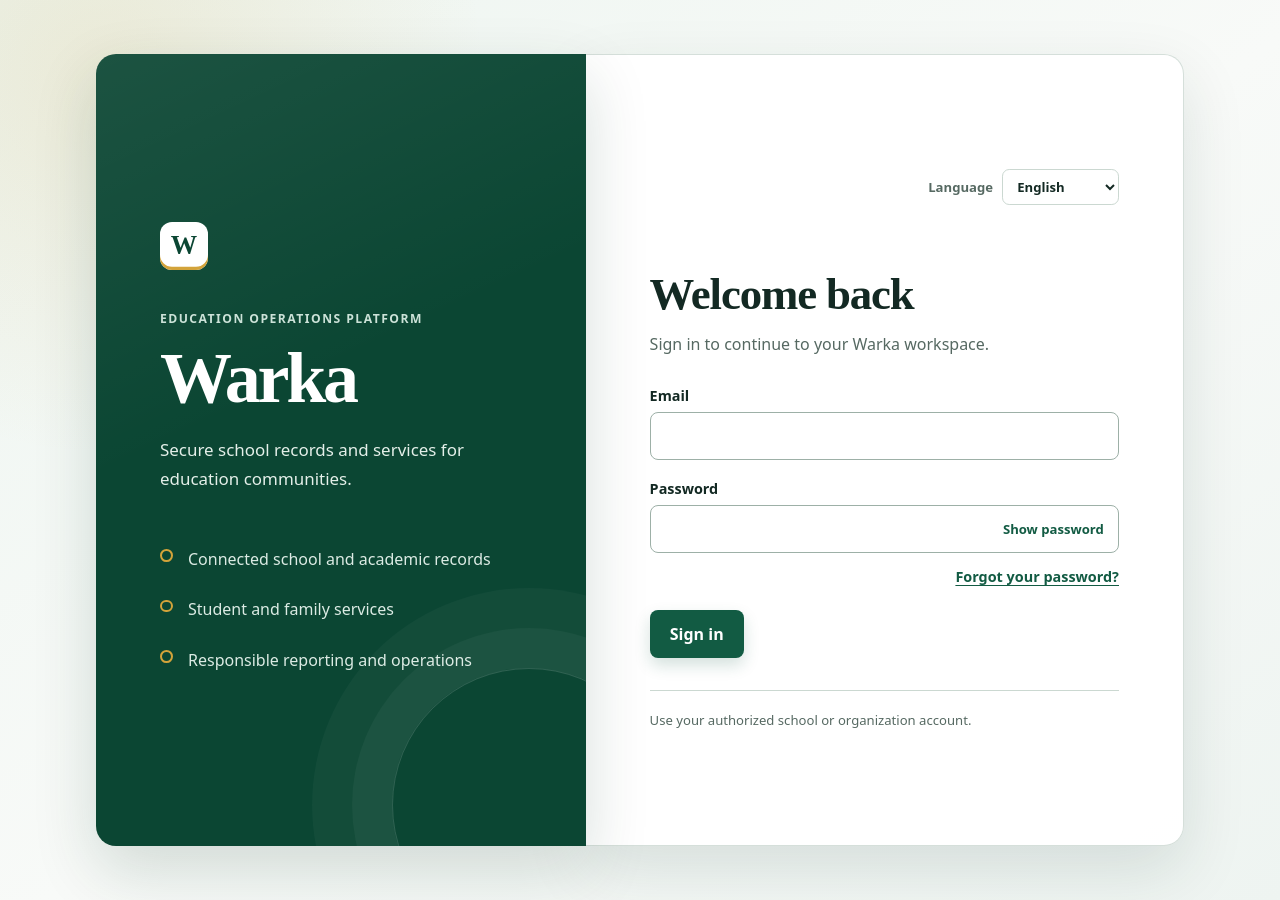
it: authenticated web shell › reports invalid credentials without exposing account details
expect the button "Sign in" is shown: met, box top-left (650, 610), bottom-right (744, 658)
Step 1. Type " OWNER@example.com " into the field labelled "Email" → (884, 436), box top-left (650, 412), bottom-right (1119, 460)
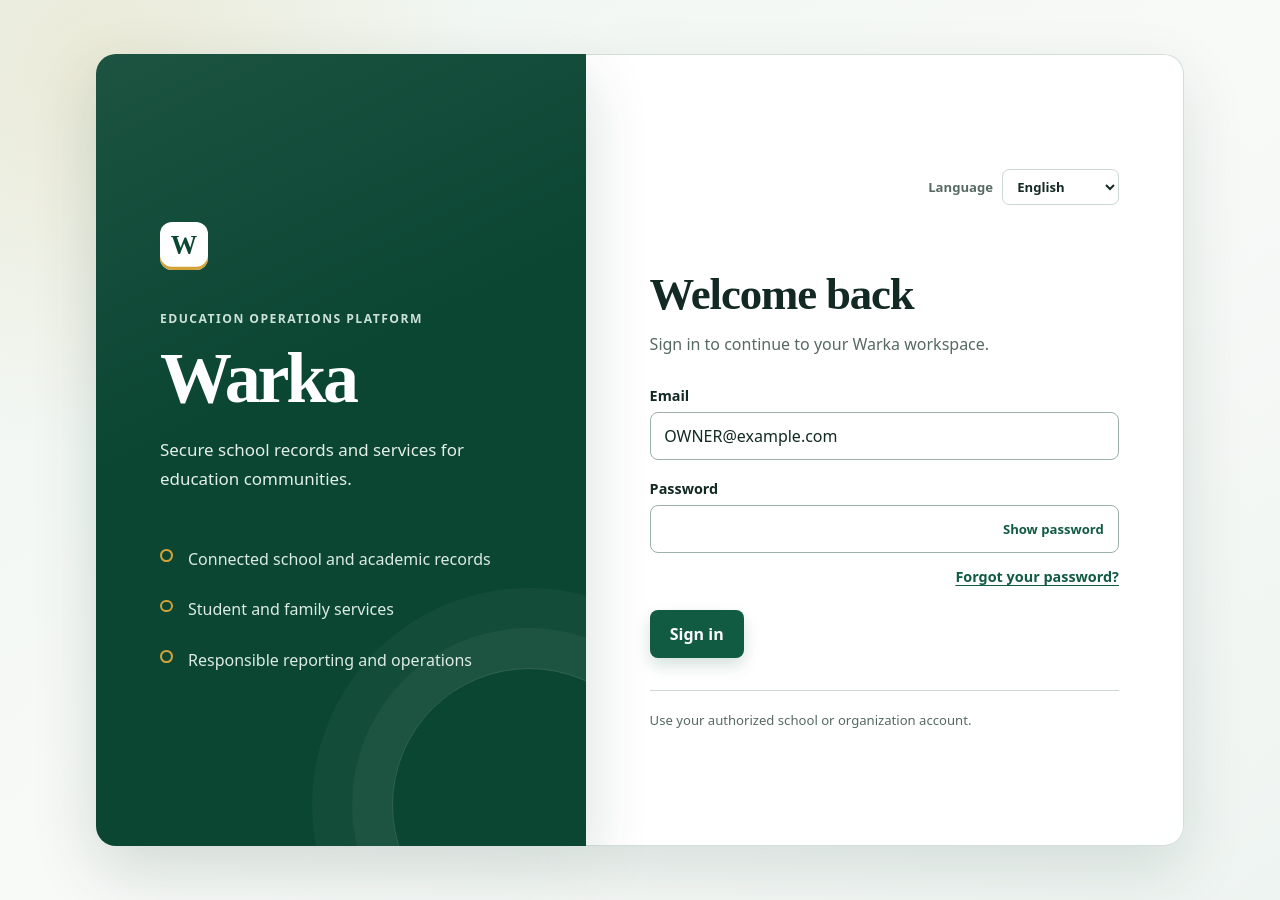
Step 2. Type "secret" into the password field labelled "Password" → (884, 529), box top-left (650, 505), bottom-right (1119, 553)
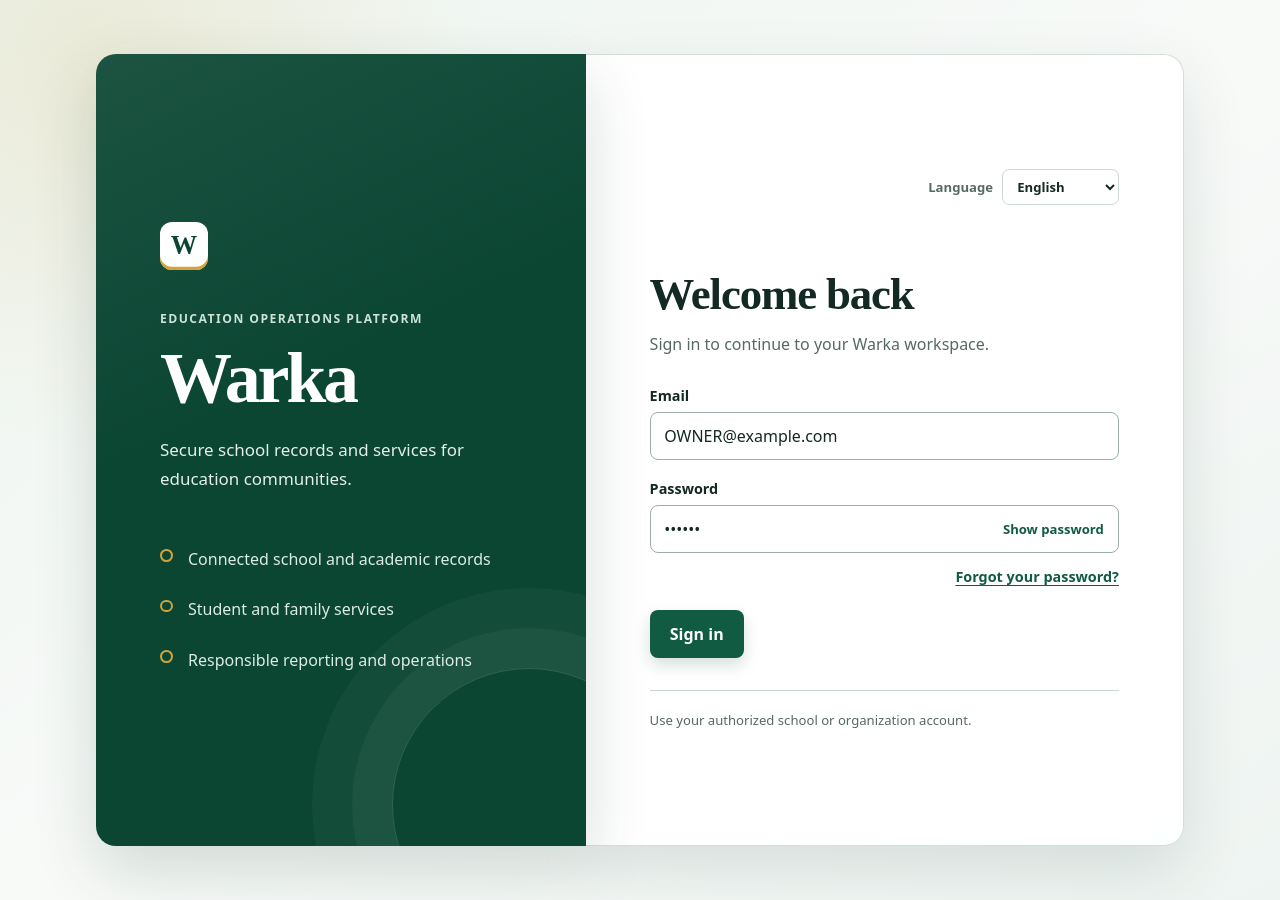
Step 3. Click the button "Sign in" → (697, 634), box top-left (650, 610), bottom-right (744, 658)
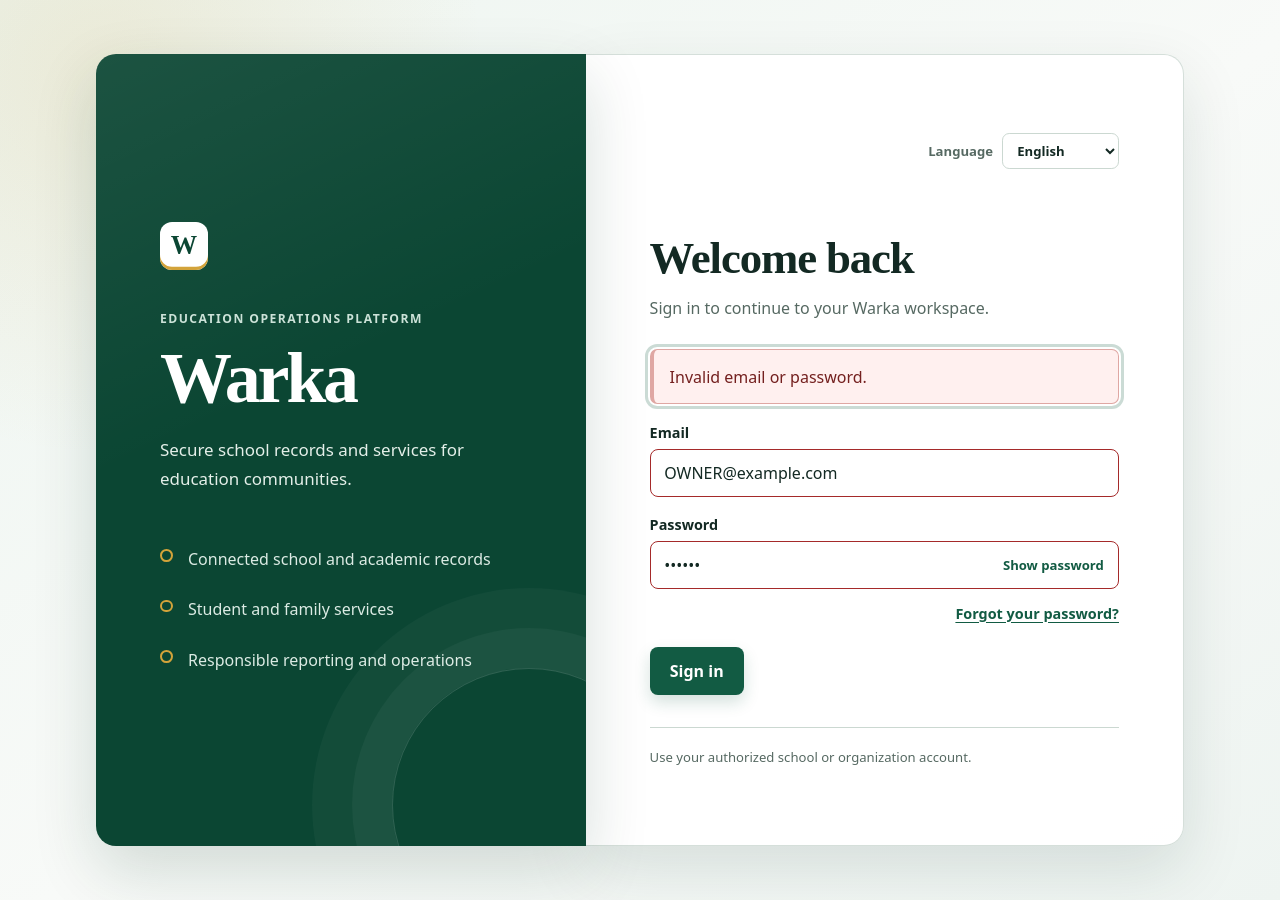
expect the text "Invalid email or password." is shown: met, box top-left (670, 366), bottom-right (867, 388)
